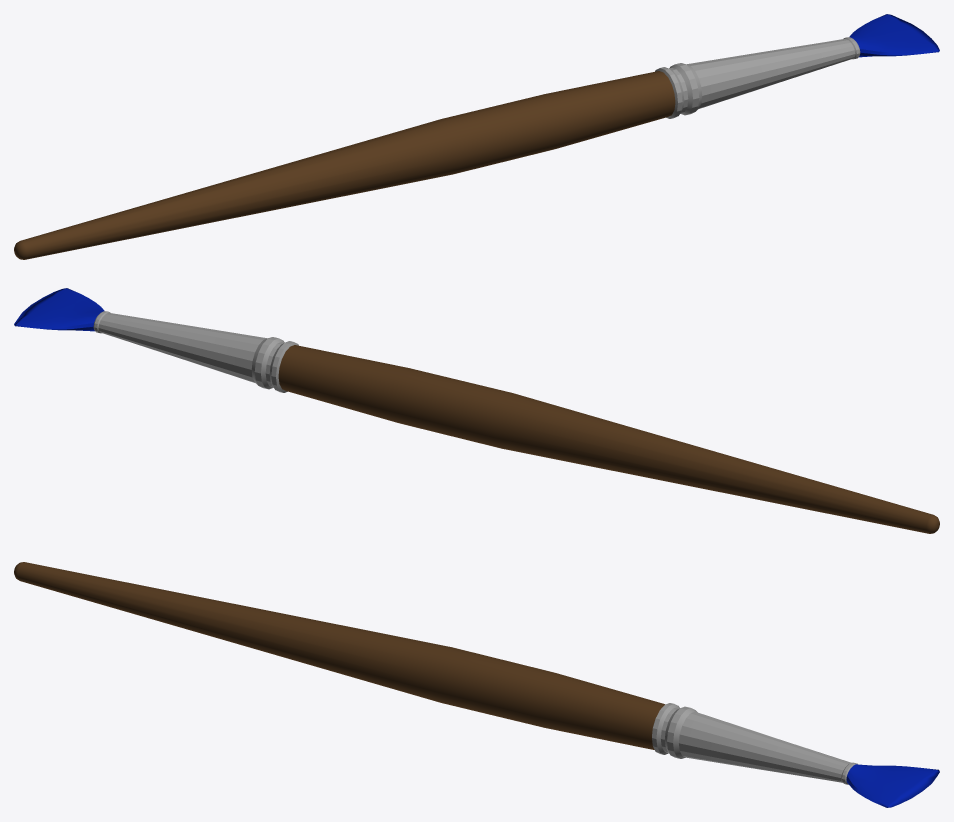
Rendered from paintbrush_02.fbx.
3 renders of one model, top to bottom at view 1: azimuth 30°, elevation 25°; view 2: azimuth 150°, elevation 25°; view 3: azimuth 330°, elevation 25°, orthographic.
Parts seen in each view (by area): view 1: paintbrush_02; view 2: paintbrush_02; view 3: paintbrush_02.
Boxes of the visible parts, <box> form: paintbrush_02: <box>14,14,939,259</box>; paintbrush_02: <box>14,288,939,533</box>; paintbrush_02: <box>14,562,939,807</box>.
Size of the model in its own units: 6.95 by 0.3781 by 0.6921.
